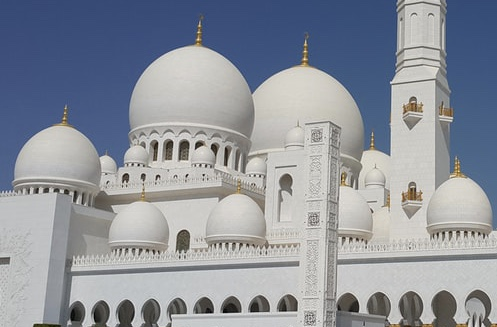Mosque: (10, 14, 493, 297)
